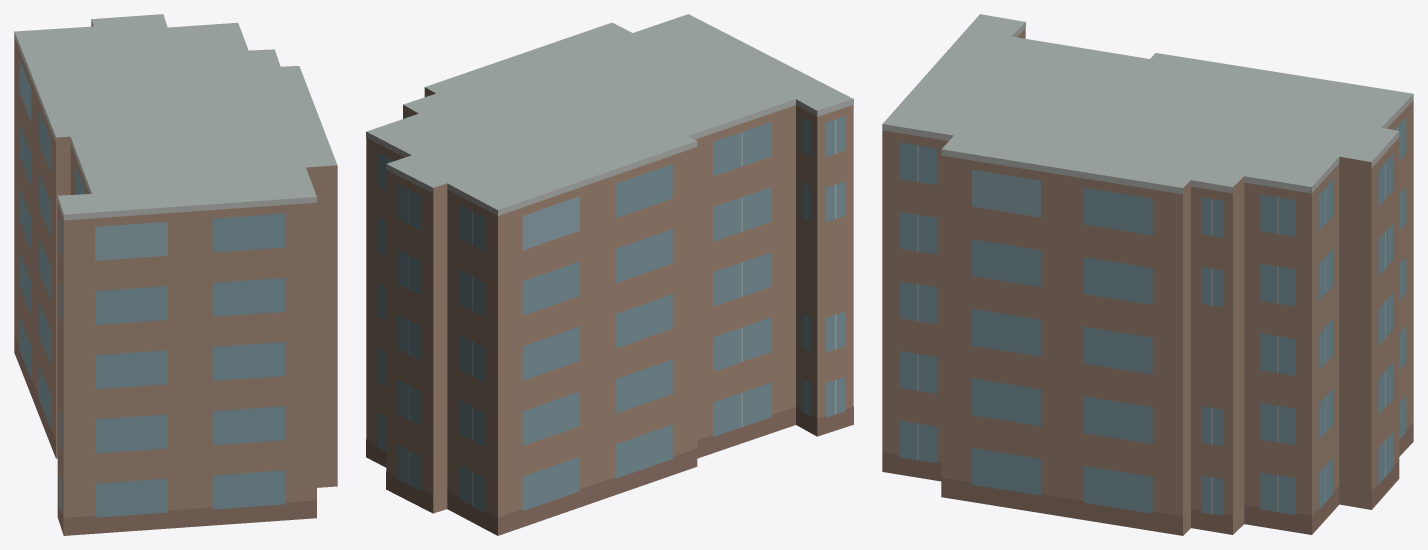
Rendered from survey-upis-32873379.glb.
3 renders of one model, left to right at view 1: azimuth 30°, elevation 25°; view 2: azimuth 150°, elevation 25°; view 3: azimuth 270°, elevation 25°, orthographic. The views are drawn at different scales.
Visible parts, largest first — view 1: survey-upis-32873379.tmp; view 2: survey-upis-32873379.tmp; view 3: survey-upis-32873379.tmp.
Part boxes in pixels (x1=…): survey-upis-32873379.tmp: x1=14, y1=14, x2=337, y2=535; survey-upis-32873379.tmp: x1=366, y1=14, x2=853, y2=535; survey-upis-32873379.tmp: x1=882, y1=14, x2=1413, y2=535.
Bounding box in the file's own units: 14.5 × 13.5 × 18.7.
